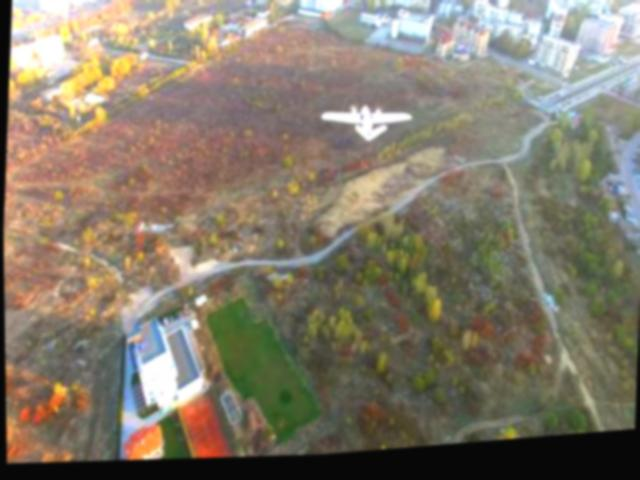uav: (315, 96, 422, 162)
